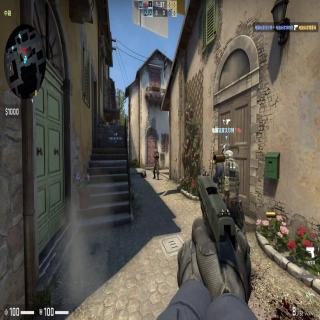T-Body: (152, 146, 160, 181)
T-Head: (155, 147, 157, 152)
